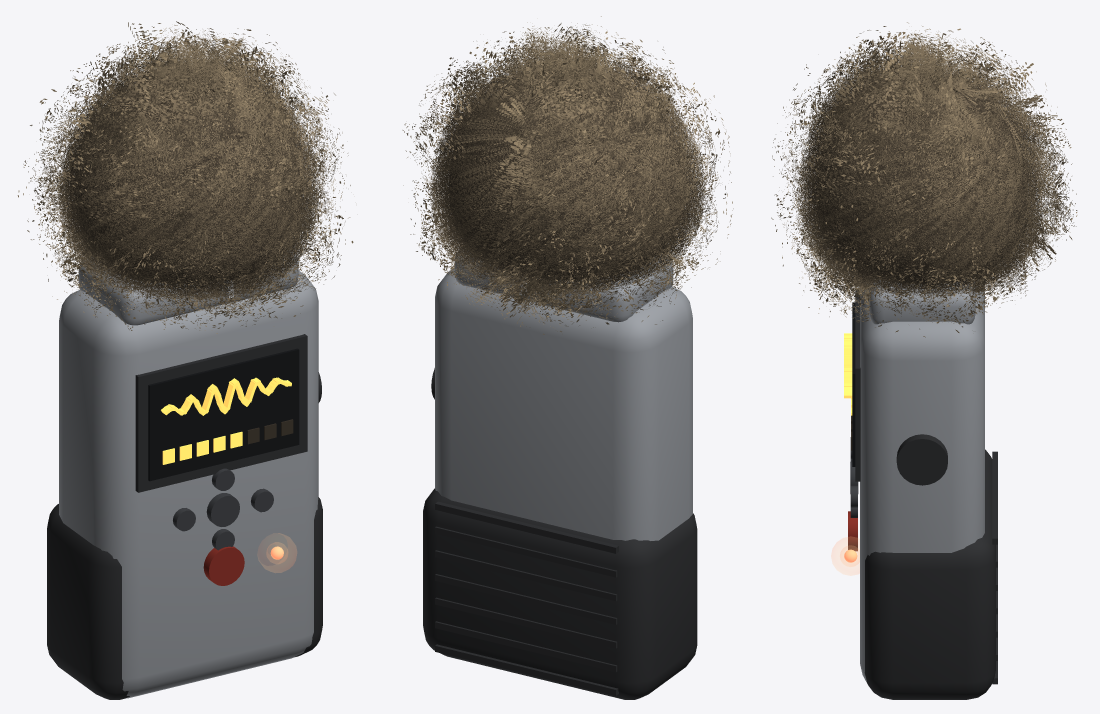
File: field_recorder.glb
3 renders of one model, left to right at view 1: azimuth 30°, elevation 25°; view 2: azimuth 150°, elevation 25°; view 3: azimuth 270°, elevation 25°, orthographic. The views are drawn at different scales.
Parts seen in each view (by area): view 1: FieldRecorder_Body, FieldRecorder_FurShell3, FieldRecorder_FurShell2, FieldRecorder_FurShell4, FieldRecorder_Grip, FieldRecorder_ScreenGlass, FieldRecorder_FurShell9, FieldRecorder_FurShell8, FieldRecorder_FurShell10, FieldRecorder_FurShell1, FieldRecorder_FurShell6, FieldRecorder_FurShell7 (+10 smaller); view 2: FieldRecorder_Body, FieldRecorder_Grip, FieldRecorder_FurShell3, FieldRecorder_FurShell2, FieldRecorder_FurShell4, FieldRecorder_FurShell9, FieldRecorder_FurShell8, FieldRecorder_FurShell10, FieldRecorder_FurShell7, FieldRecorder_FurShell1, FieldRecorder_FurShell6, FieldRecorder_FurShell5 (+12 smaller); view 3: FieldRecorder_Body, FieldRecorder_Grip, FieldRecorder_FurShell3, FieldRecorder_FurShell2, FieldRecorder_FurShell4, FieldRecorder_FurShell9, FieldRecorder_FurShell8, FieldRecorder_FurShell1, FieldRecorder_FurShell10, FieldRecorder_FurShell7, FieldRecorder_FurShell6, FieldRecorder_WindguardSock (+11 smaller).
Boxes of the visible parts, x1=… form: FieldRecorder_Body: x1=59, y1=271, x2=318, y2=698; FieldRecorder_FurShell3: x1=61, y1=61, x2=315, y2=296; FieldRecorder_FurShell2: x1=65, y1=67, x2=311, y2=293; FieldRecorder_FurShell4: x1=59, y1=58, x2=318, y2=298; FieldRecorder_Grip: x1=47, y1=497, x2=322, y2=699; FieldRecorder_ScreenGlass: x1=148, y1=348, x2=299, y2=481; FieldRecorder_FurShell9: x1=34, y1=35, x2=338, y2=320; FieldRecorder_FurShell8: x1=42, y1=38, x2=332, y2=313; FieldRecorder_FurShell10: x1=32, y1=29, x2=335, y2=330; FieldRecorder_FurShell1: x1=69, y1=76, x2=307, y2=288; FieldRecorder_FurShell6: x1=59, y1=46, x2=317, y2=305; FieldRecorder_FurShell7: x1=50, y1=42, x2=325, y2=304; FieldRecorder_Body: x1=435, y1=269, x2=692, y2=540; FieldRecorder_Grip: x1=423, y1=488, x2=697, y2=699; FieldRecorder_FurShell3: x1=435, y1=62, x2=699, y2=292; FieldRecorder_FurShell2: x1=439, y1=67, x2=695, y2=289; FieldRecorder_FurShell4: x1=432, y1=62, x2=702, y2=295; FieldRecorder_FurShell9: x1=419, y1=32, x2=718, y2=315; FieldRecorder_FurShell8: x1=429, y1=39, x2=717, y2=311; FieldRecorder_FurShell10: x1=410, y1=29, x2=726, y2=321; FieldRecorder_FurShell7: x1=430, y1=44, x2=704, y2=311; FieldRecorder_FurShell1: x1=444, y1=70, x2=691, y2=284; FieldRecorder_FurShell6: x1=430, y1=48, x2=706, y2=301; FieldRecorder_FurShell5: x1=431, y1=52, x2=704, y2=296; FieldRecorder_Body: x1=860, y1=275, x2=984, y2=681; FieldRecorder_Grip: x1=864, y1=449, x2=995, y2=699; FieldRecorder_FurShell3: x1=803, y1=66, x2=1040, y2=295; FieldRecorder_FurShell2: x1=807, y1=72, x2=1036, y2=293; FieldRecorder_FurShell4: x1=800, y1=59, x2=1045, y2=297; FieldRecorder_FurShell9: x1=790, y1=39, x2=1065, y2=321; FieldRecorder_FurShell8: x1=792, y1=41, x2=1061, y2=319; FieldRecorder_FurShell1: x1=812, y1=75, x2=1031, y2=289; FieldRecorder_FurShell10: x1=782, y1=35, x2=1069, y2=323; FieldRecorder_FurShell7: x1=800, y1=46, x2=1057, y2=314; FieldRecorder_FurShell6: x1=797, y1=51, x2=1053, y2=295; FieldRecorder_WindguardSock: x1=817, y1=80, x2=1026, y2=284.
Bounding box in the file's own units: 0.0965 × 0.1902 × 0.0866.
Materials: 26 (15 with a texture image).
